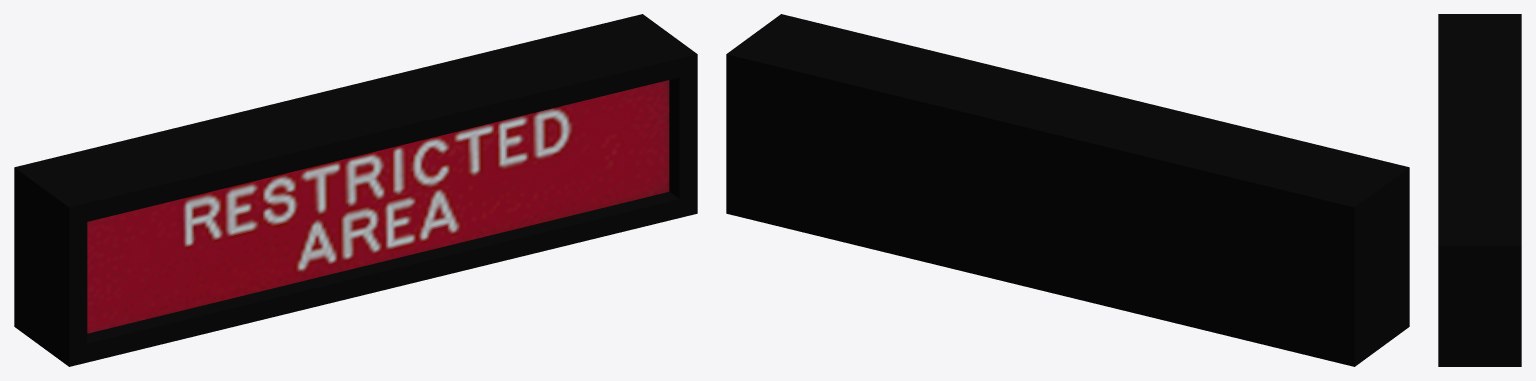
Rendered from Restricted area.FBX.
3 views of the same model, side by side, from view 1: azimuth 30°, elevation 25°; view 2: azimuth 150°, elevation 25°; view 3: azimuth 270°, elevation 25° (orthographic). The views are drawn at different scales.
Parts seen in each view (by area): view 1: Restricted area; view 2: Restricted area; view 3: Restricted area.
Boxes of the visible parts, x1,y1,x2,y2 form: Restricted area: [14, 14, 697, 366]; Restricted area: [726, 14, 1409, 366]; Restricted area: [1438, 14, 1521, 366].
Bounding box in the file's own units: 984 × 149 × 239.
1 material, 1 textured.
